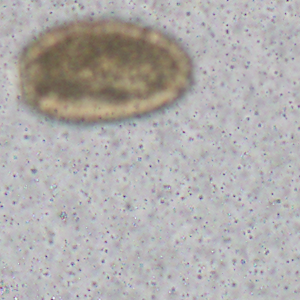Fasciola_hepatica_egg: (17, 18, 194, 123)
